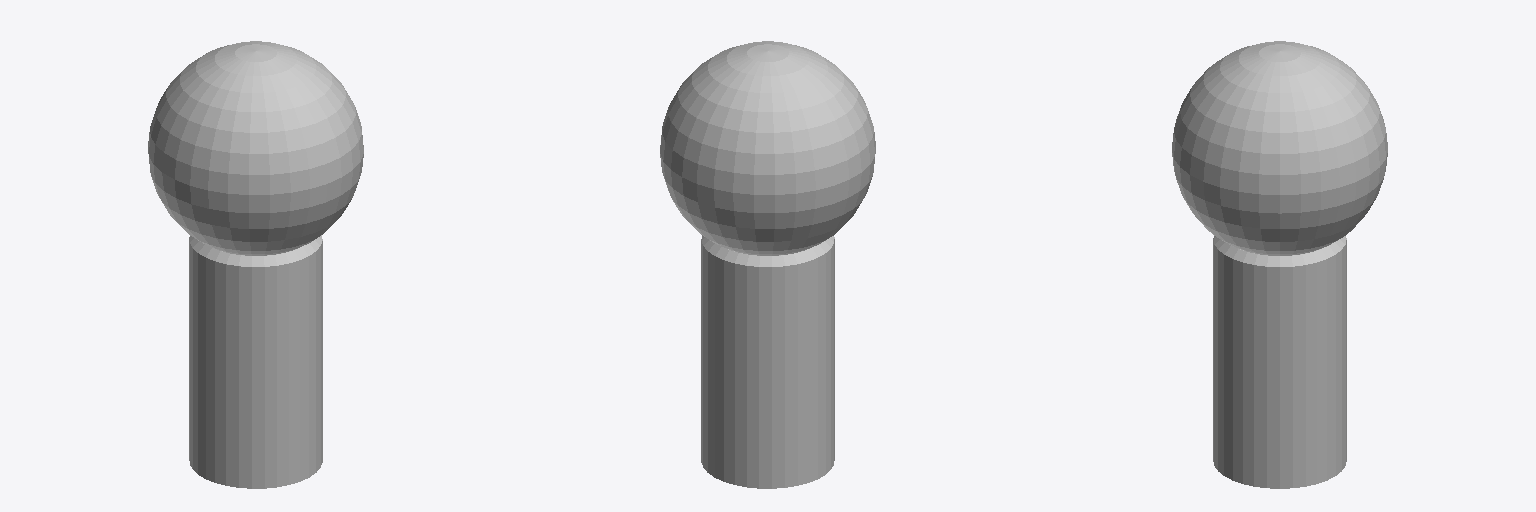
Rendered from BasicCharacter.obj.
3 views of the same model, side by side, from view 1: azimuth 30°, elevation 25°; view 2: azimuth 150°, elevation 25°; view 3: azimuth 270°, elevation 25° (orthographic).
Parts seen in each view (by area): view 1: Cylinder; view 2: Cylinder; view 3: Cylinder.
Part boxes in pixels (bbox=[...]): Cylinder: bbox=[148, 41, 363, 488]; Cylinder: bbox=[660, 41, 875, 488]; Cylinder: bbox=[1172, 41, 1387, 488].
Bounding box in the file's own units: 2 × 4.17 × 2.